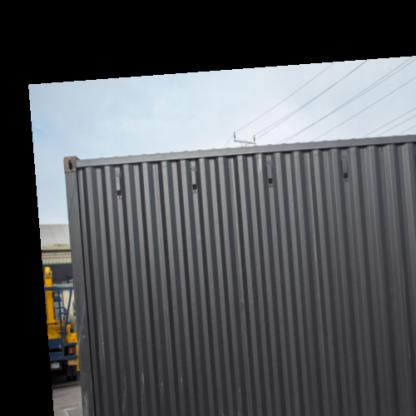Damage: (76, 298, 98, 413)
